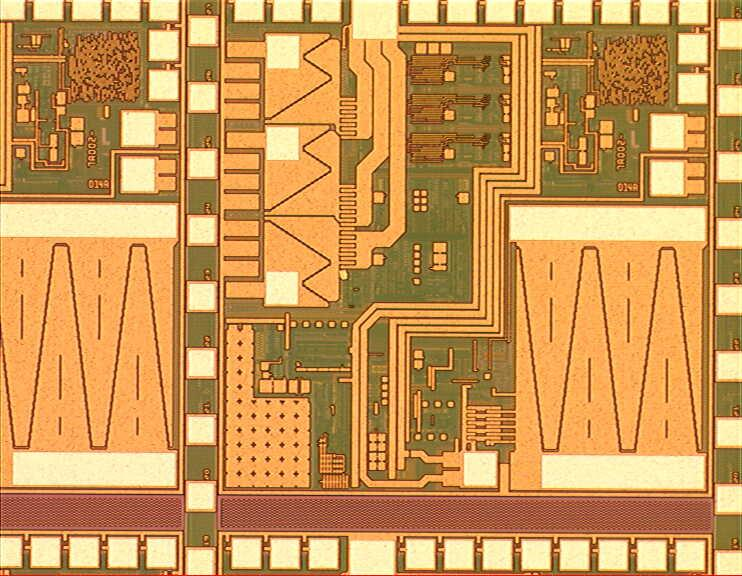BLOCK ETCH: (66, 27, 674, 108)
